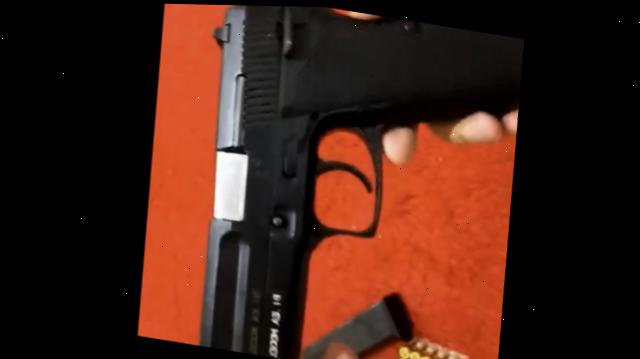pistol: (160, 3, 539, 359)
